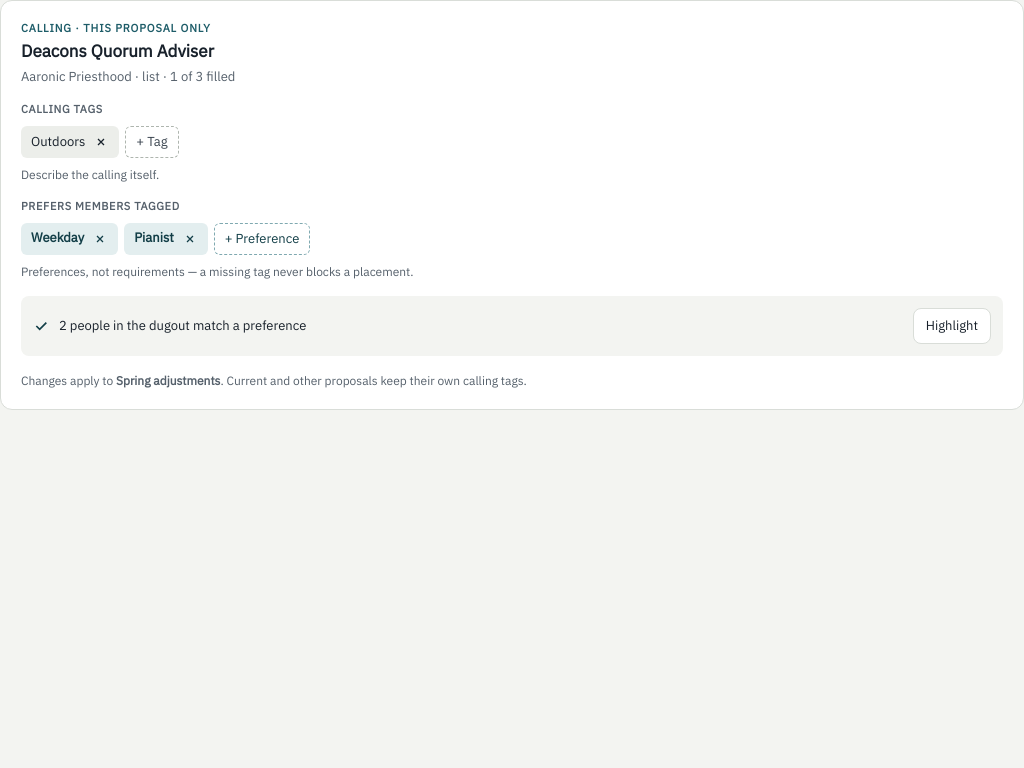
Test case: CallingTagsEditor › pickers offer no create option
This screenshot has width=1024, height=768.
Click the button "+ Tag": [152, 142] box top-left (125, 126), bottom-right (178, 158)
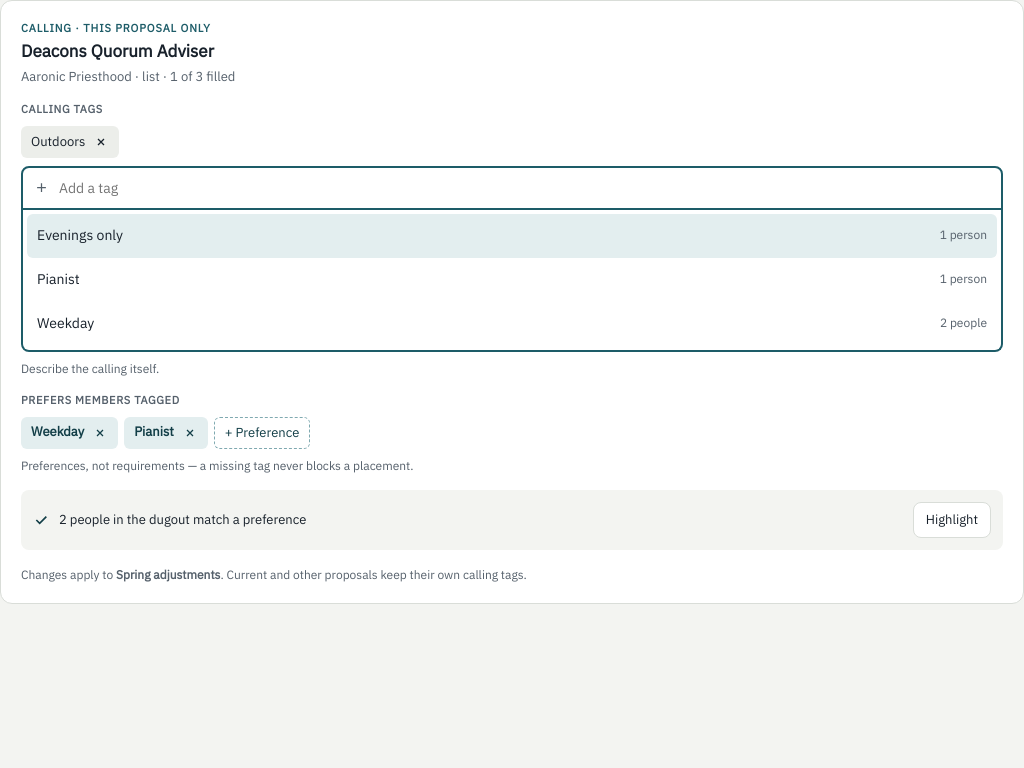
Type keys "zzz"
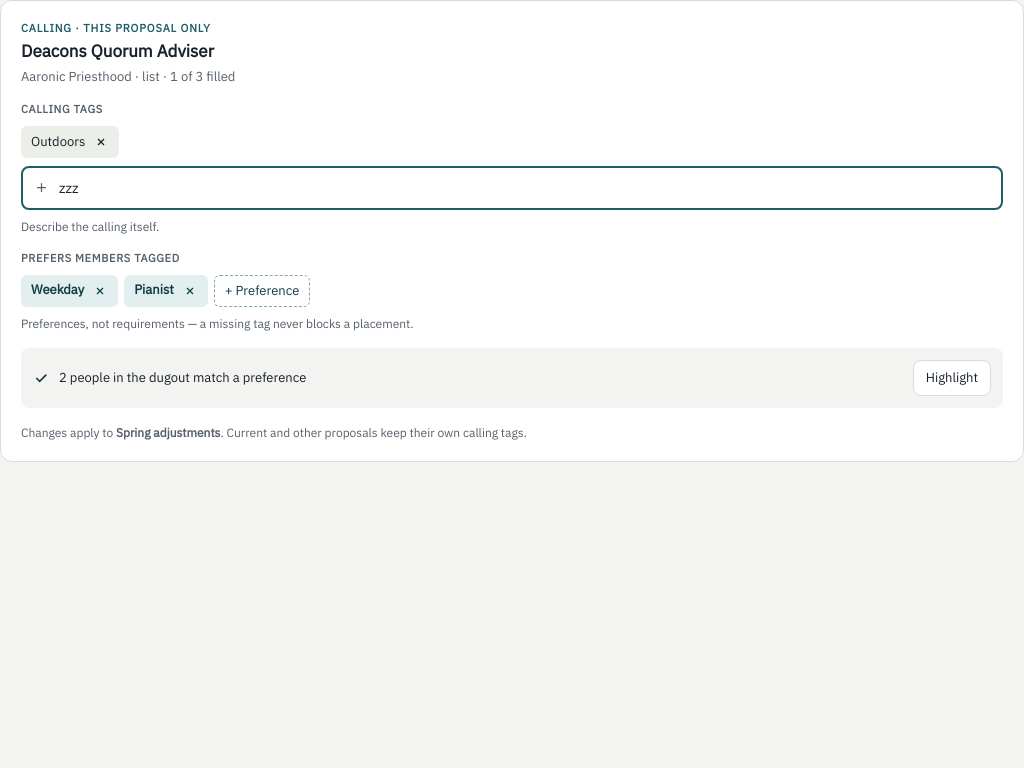
Expected: no options are shown
